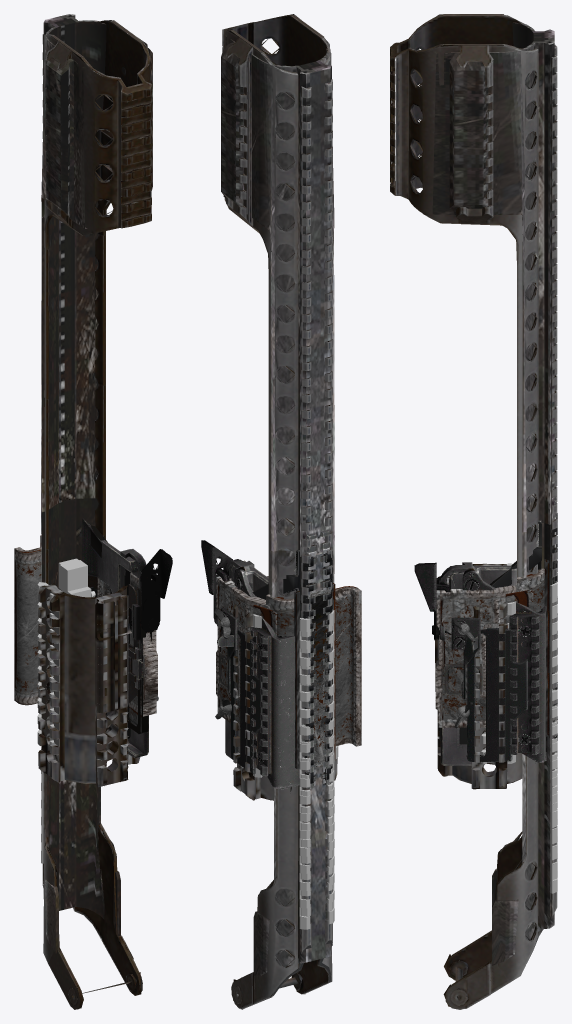
Rendered from Mount.fbx.
3 views of the same model, side by side, from view 1: azimuth 30°, elevation 25°; view 2: azimuth 210°, elevation 25°; view 3: azimuth 270°, elevation 25° (orthographic).
Visible parts, largest first — view 1: scrap_mount_shotgun, mount_590_bat_rb7m, UniversalMount, scrap_mount, ak_mount_kobra, ak_mount_sag, mount_rail, AK_Mount, mount_mosin, ak_mount_xd_rgl; view 2: scrap_mount_shotgun, mount_590_bat_rb7m, scrap_mount, ak_mount_kobra, mount_rail, ak_mount_vpo, UniversalMount, AK_Mount, mount_mosin, ak_mount_xd_rgl, ak_mount_sag; view 3: mount_590_bat_rb7m, scrap_mount_shotgun, scrap_mount, ak_mount_kobra, ak_mount_vpo, UniversalMount, ak_mount_sag, mount_rail, AK_Mount, mount_mosin, ak_mount_xd_rgl.
Boxes of the visible parts, x1,y1,x2,y2 form: scrap_mount_shotgun: (41,14,152,953); mount_590_bat_rb7m: (42,20,151,1009); UniversalMount: (38,583,140,787); scrap_mount: (14,535,158,726); ak_mount_kobra: (120,549,172,695); ak_mount_sag: (82,518,148,758); mount_rail: (41,558,91,863); AK_Mount: (88,525,151,733); mount_mosin: (37,570,95,746); ak_mount_xd_rgl: (88,575,138,702); scrap_mount_shotgun: (221,28,334,975); mount_590_bat_rb7m: (222,14,332,1009); scrap_mount: (213,576,361,768); ak_mount_kobra: (201,540,330,789); mount_rail: (299,610,334,929); ak_mount_vpo: (227,630,262,774); UniversalMount: (233,576,337,800); AK_Mount: (252,550,332,783); mount_mosin: (240,614,338,916); ak_mount_xd_rgl: (217,529,329,780); ak_mount_sag: (225,547,329,785); mount_590_bat_rb7m: (390,14,557,1009); scrap_mount_shotgun: (432,22,554,965); scrap_mount: (435,559,556,736); ak_mount_kobra: (414,562,556,762); ak_mount_vpo: (461,628,527,761); UniversalMount: (435,564,535,789); ak_mount_sag: (440,517,555,765); mount_rail: (550,572,557,893); AK_Mount: (439,513,557,744); mount_mosin: (481,563,557,880); ak_mount_xd_rgl: (444,496,556,721).
Bounding box in the file's own units: 0.044 × 0.3847 × 0.0606.
